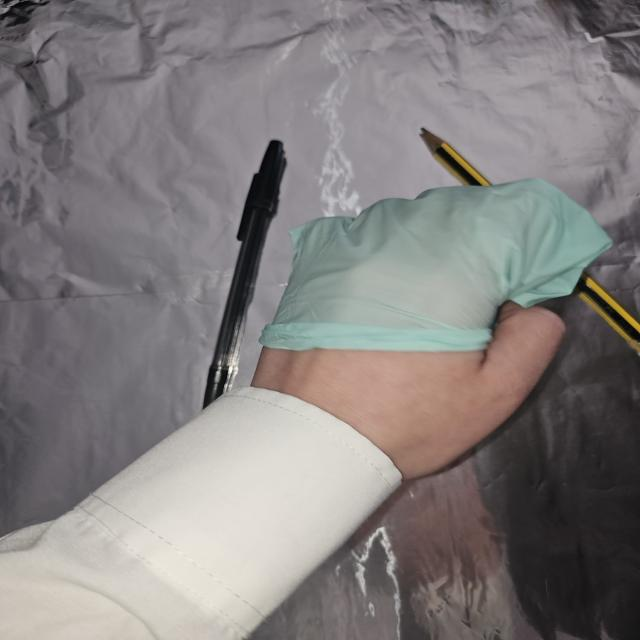glove_partial: (250, 179, 615, 484)
